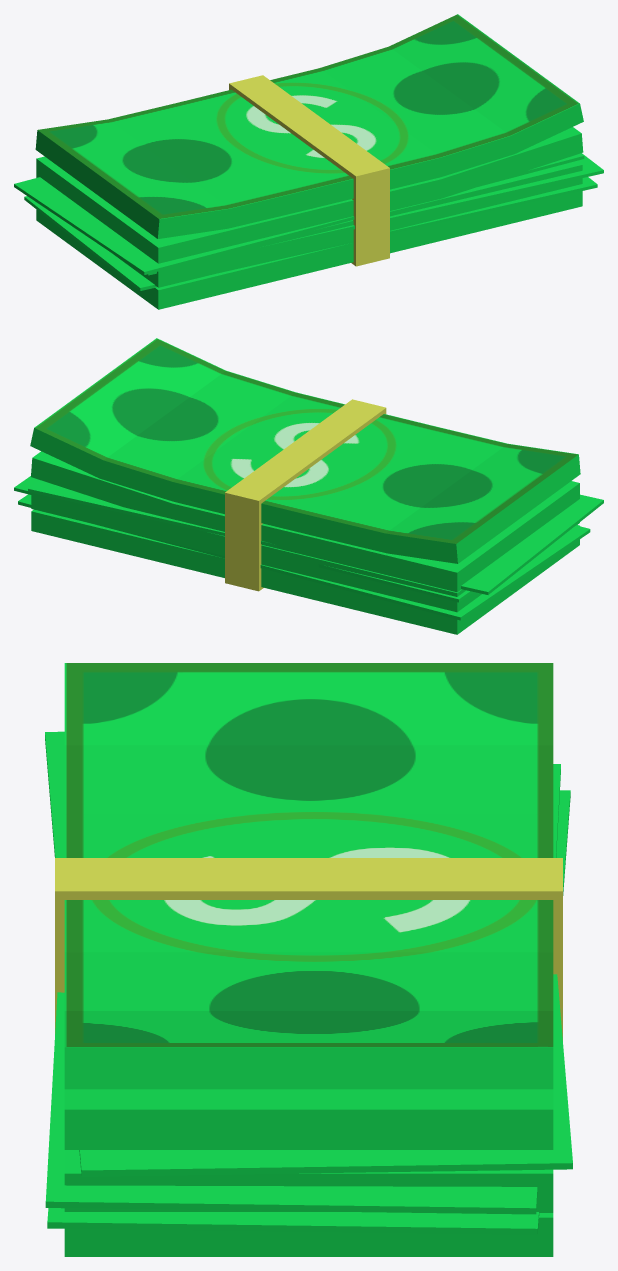
File: MoneyStack.fbx
3 views of the same model, one above another, from view 1: azimuth 30°, elevation 25°; view 2: azimuth 150°, elevation 25°; view 3: azimuth 270°, elevation 25° (orthographic). The views are drawn at different scales.
Parts seen in each view (by area): view 1: MoneyTop, RestMoney, Money Bottom; view 2: MoneyTop, RestMoney, Money Bottom; view 3: MoneyTop, RestMoney, Money Bottom.
Part boxes in pixels (x1,y1,x2,y2): MoneyTop: (35, 14, 583, 238); RestMoney: (14, 75, 603, 290); Money Bottom: (36, 191, 582, 309); MoneyTop: (30, 338, 580, 563); RestMoney: (14, 399, 603, 620); Money Bottom: (31, 509, 579, 634); MoneyTop: (64, 663, 553, 1089); RestMoney: (45, 731, 572, 1234); Money Bottom: (64, 1213, 553, 1256).
Size of the model in its own units: 23.54 by 5.05 by 11.4.
